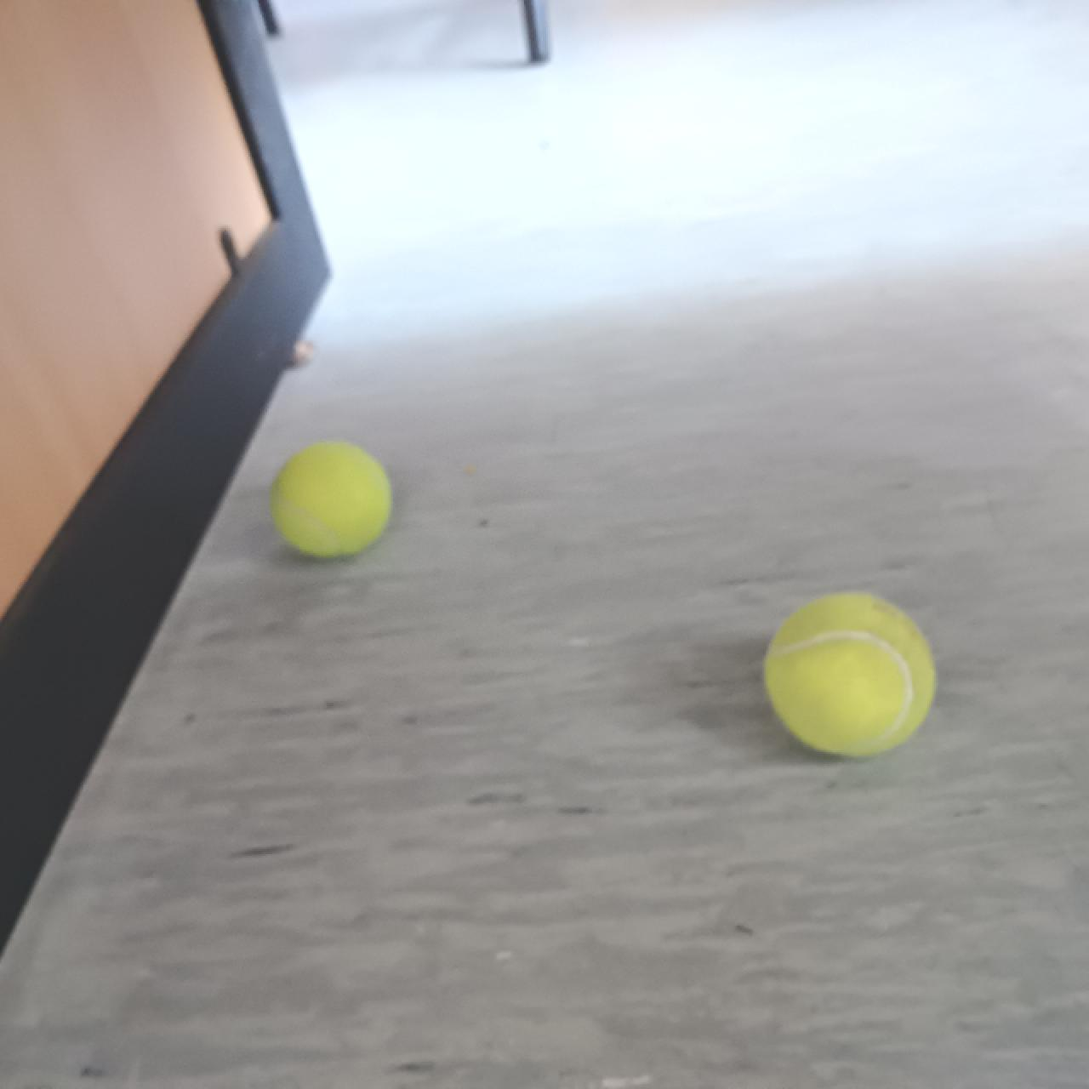tennis-ball: (760, 588, 943, 760), (269, 442, 394, 560)
